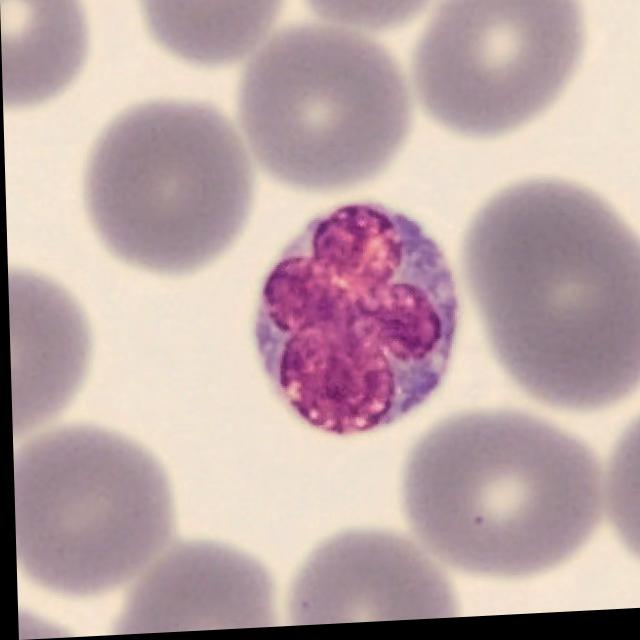Linfocito atipico: (250, 209, 459, 441)
